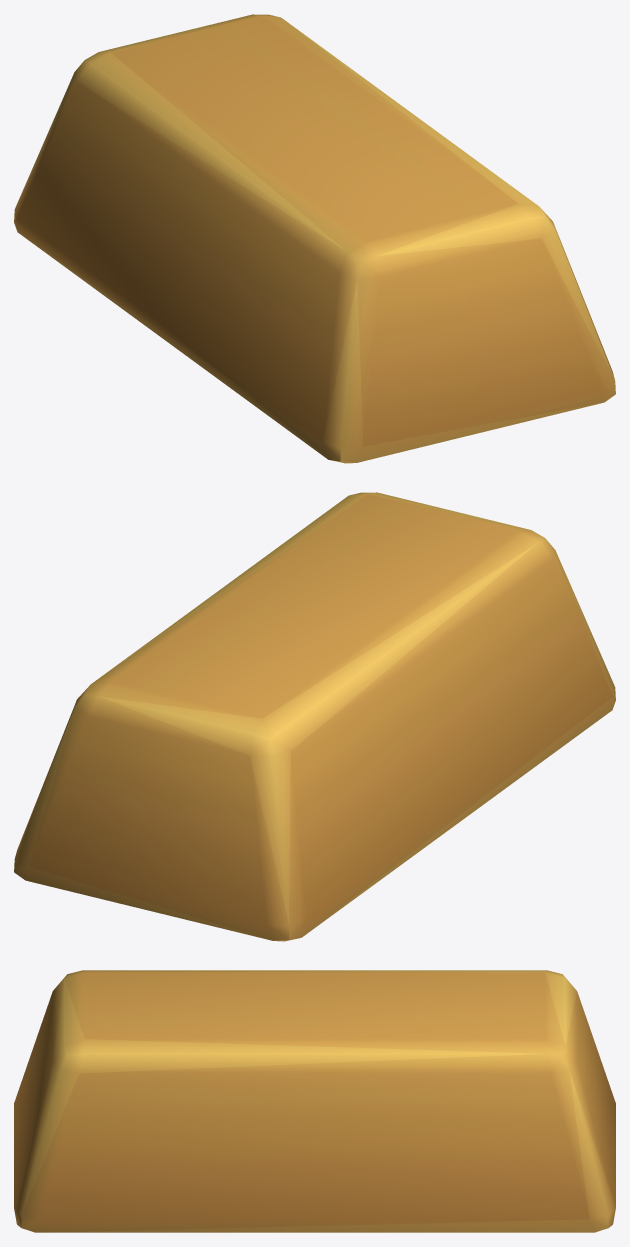
The model's file is guldtacka.glb.
The picture shows the model from 3 angles, top to bottom: view 1: azimuth 30°, elevation 25°; view 2: azimuth 150°, elevation 25°; view 3: azimuth 270°, elevation 25°; orthographic projection. The views are drawn at different scales.
Visible parts, largest first — view 1: Gold_Bar; view 2: Gold_Bar; view 3: Gold_Bar.
Boxes of the visible parts, <box> form: Gold_Bar: <box>14,14,615,463</box>; Gold_Bar: <box>14,492,615,941</box>; Gold_Bar: <box>14,970,615,1232</box>.
Bounding box in the file's own units: 0.4001 × 0.25 × 0.8.
Materials: 1 (1 with a texture image).
